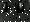person: (19, 5, 25, 18), (6, 3, 12, 13)
